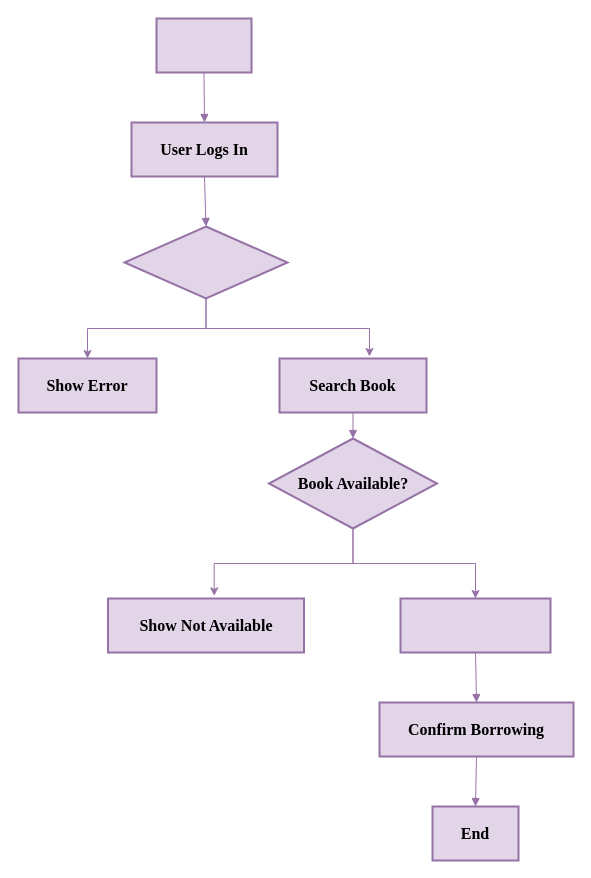
This 591x878 diagram has some shape labels left out. Here are the shapes that lost their labels. From the top down, the centre of each, then its label:
point 203,45: Start
point 205,262: Login Successful?
point 475,625: Borrow Book
